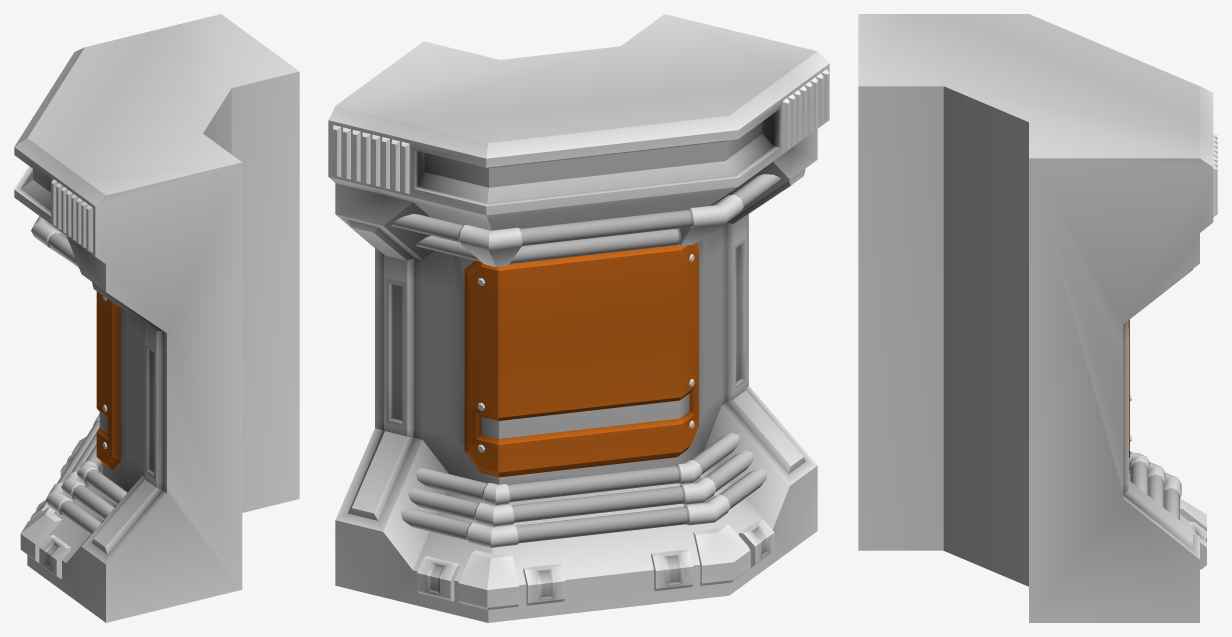
Rendered from wallCurveOut_C.FBX.
The picture shows the model from 3 angles, left to right: view 1: azimuth 30°, elevation 25°; view 2: azimuth 150°, elevation 25°; view 3: azimuth 270°, elevation 25°; orthographic projection. The views are drawn at different scales.
Visible parts, largest first — view 1: wallCurveOut_C; view 2: wallCurveOut_C; view 3: wallCurveOut_C.
Part boxes in pixels (left/top/right/bottom): wallCurveOut_C: left=14, top=14, right=299, bottom=622; wallCurveOut_C: left=328, top=14, right=829, bottom=622; wallCurveOut_C: left=858, top=14, right=1217, bottom=622.
Bounding box in the file's own units: 2.1 × 3 × 2.1.
